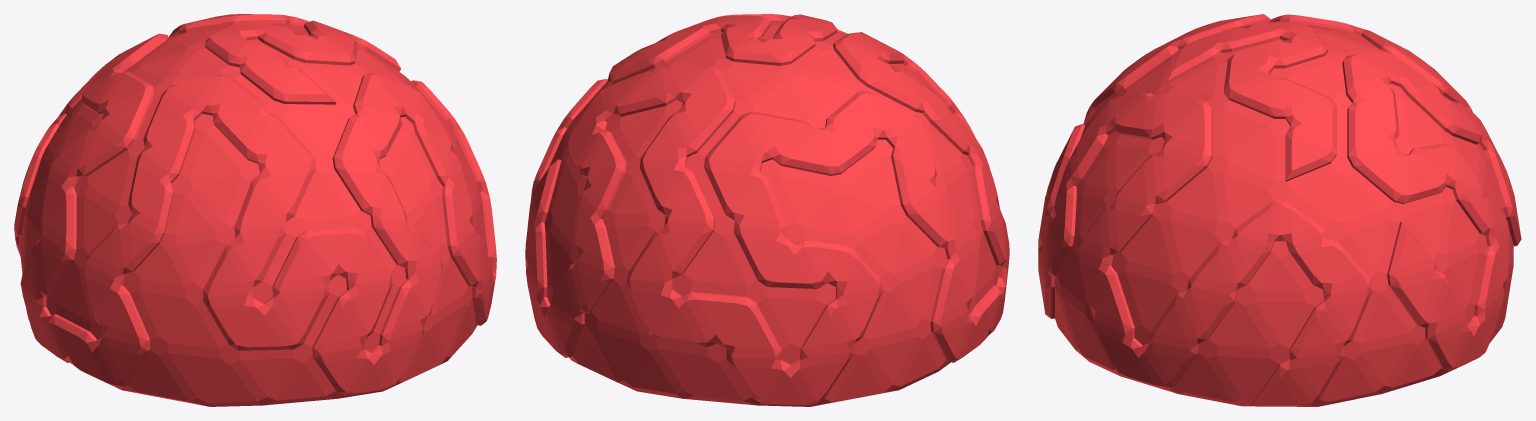
The model's file is braincoral.fbx.
3 renders of one model, left to right at view 1: azimuth 30°, elevation 25°; view 2: azimuth 150°, elevation 25°; view 3: azimuth 270°, elevation 25°, orthographic.
Parts seen in each view (by area): view 1: Icosphere; view 2: Icosphere; view 3: Icosphere.
Part boxes in pixels (<box>): Icosphere: <box>14,14,496,406</box>; Icosphere: <box>525,14,1009,406</box>; Icosphere: <box>1038,14,1521,406</box>.
Size of the model in its own units: 383 by 244 by 383.
